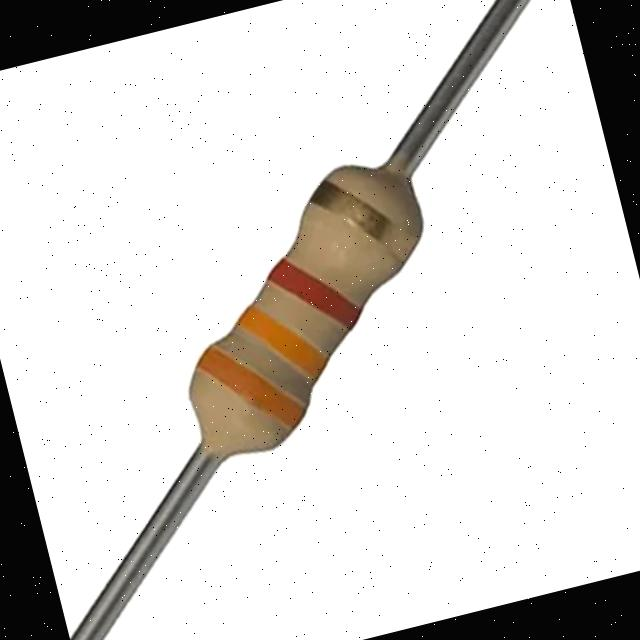brown: (266, 257, 363, 327)
gold: (307, 175, 420, 266)
orange: (197, 344, 307, 429), (235, 301, 330, 380)
resistor: (130, 133, 471, 498)
